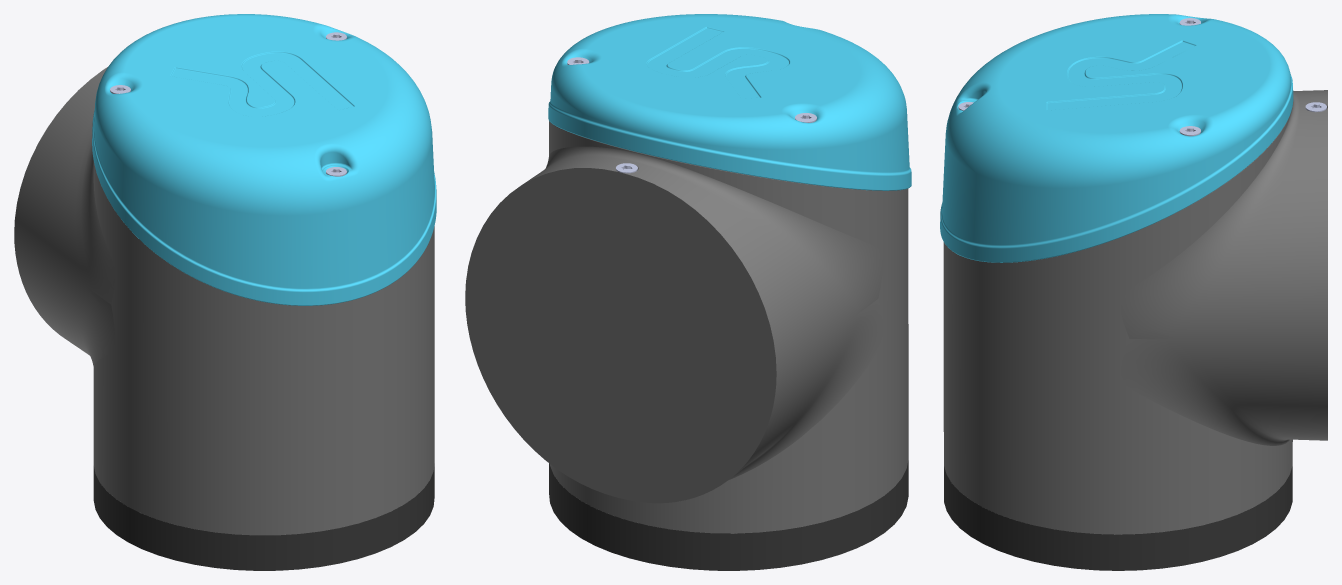
The model's file is Joint0.obj.
3 renders of one model, left to right at view 1: azimuth 30°, elevation 25°; view 2: azimuth 150°, elevation 25°; view 3: azimuth 270°, elevation 25°, orthographic. The views are drawn at different scales.
Parts seen in each view (by area): view 1: Solid6, Solid1; view 2: Solid6, Solid1; view 3: Solid6, Solid1.
Part boxes in pixels (x1,y1,x2,y2): Solid6: (14,67,434,570); Solid1: (92,14,436,305); Solid6: (465,121,908,570); Solid1: (548,14,911,190); Solid6: (943,90,1327,570); Solid1: (940,14,1293,262).
Size of the model in its own units: 0.091 by 0.1229 by 0.0999.
